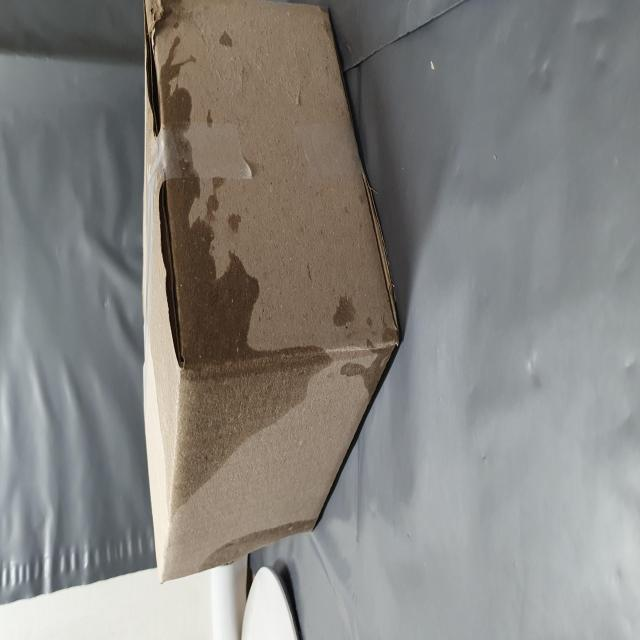wet: (88, 270, 280, 566)
